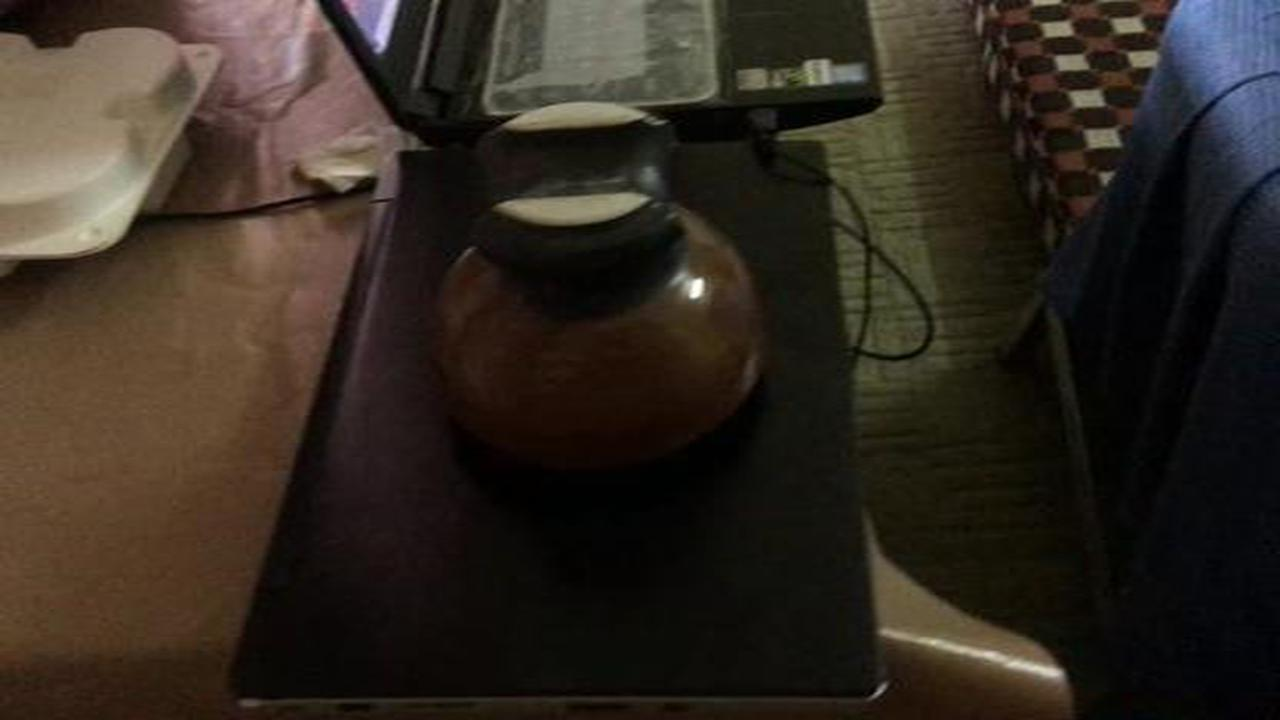insulator_pin: (398, 101, 788, 496)
